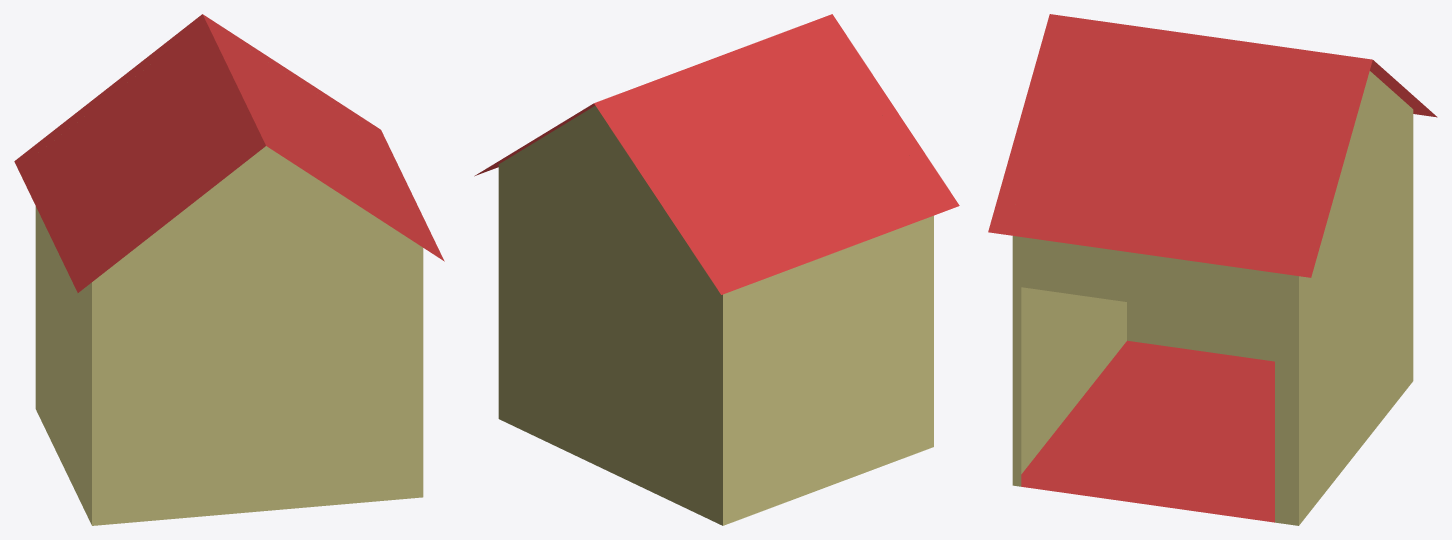
3 renders of one model, left to right at view 1: azimuth 30°, elevation 25°; view 2: azimuth 150°, elevation 25°; view 3: azimuth 270°, elevation 25°, orthographic. The views are drawn at different scales.
Bounding box in the file's own units: 12.54 × 11.57 × 11.31.
